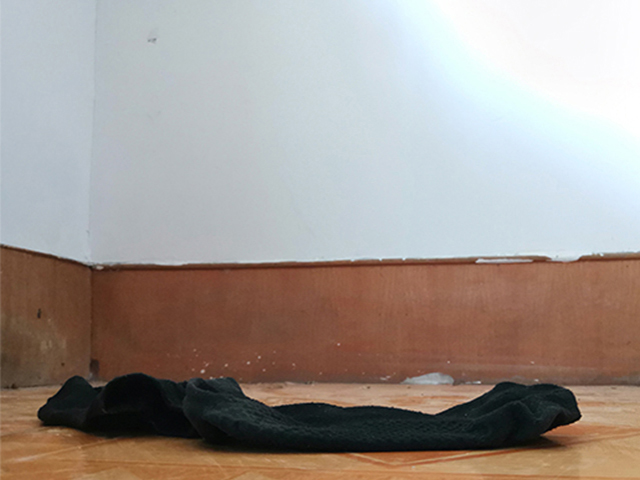socks: (36, 371, 584, 455)
